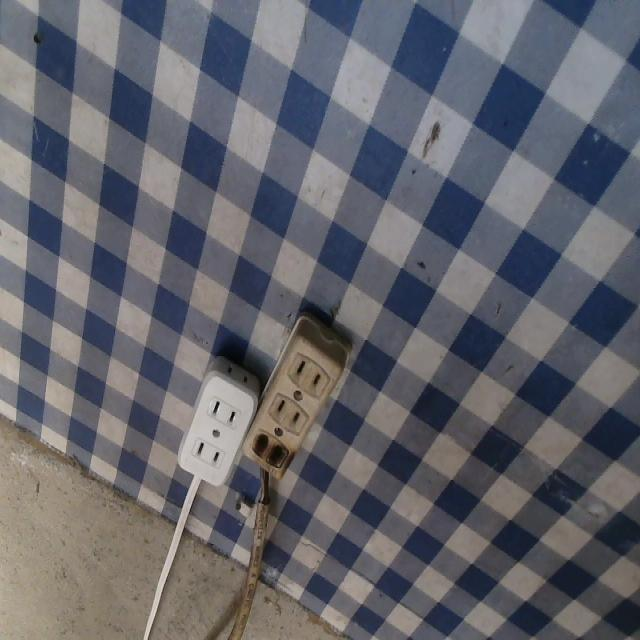-: (246, 424, 295, 476)
